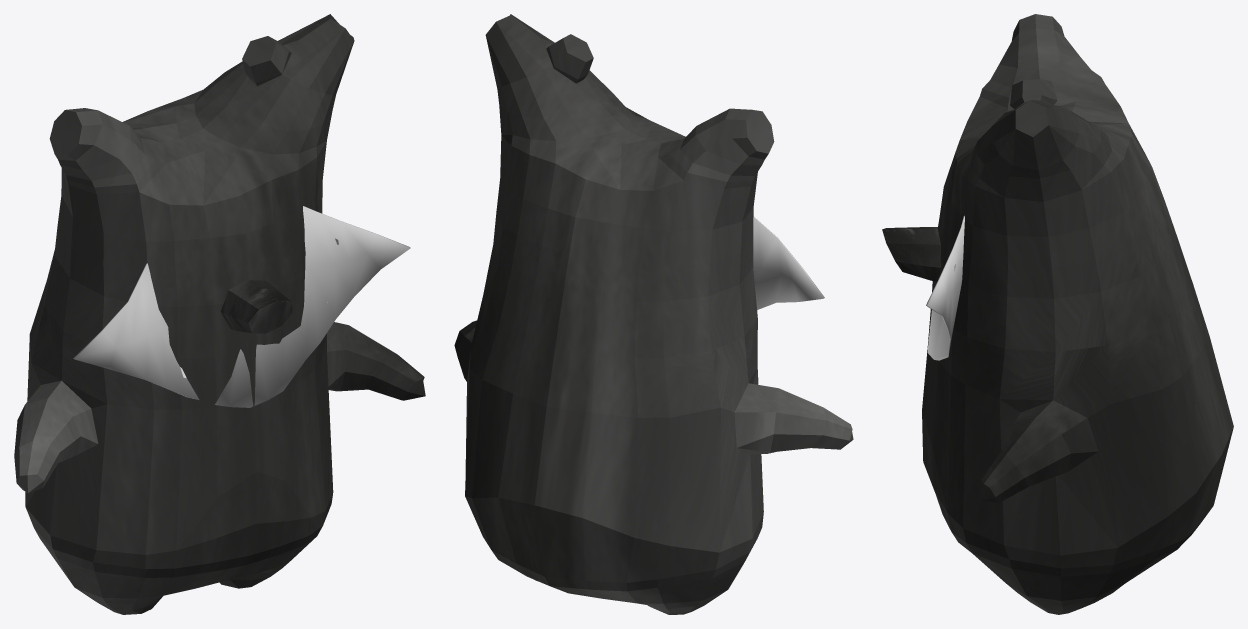
The model's file is frame_0002.obj.
3 views of the same model, side by side, from view 1: azimuth 30°, elevation 25°; view 2: azimuth 150°, elevation 25°; view 3: azimuth 270°, elevation 25° (orthographic). The views are drawn at different scales.
Visible parts, largest first — view 1: korok, leaf, nose; view 2: korok, leaf; view 3: korok, leaf, nose.
Part boxes in pixels (x1,y1,x2,y2): korok: [14, 14, 425, 614]; leaf: [73, 206, 410, 407]; nose: [220, 279, 292, 333]; korok: [454, 14, 853, 614]; leaf: [753, 217, 824, 309]; korok: [922, 14, 1233, 614]; leaf: [926, 215, 964, 360]; nose: [882, 227, 940, 281].
Size of the model in its own units: 1.7 by 2.25 by 1.31.
